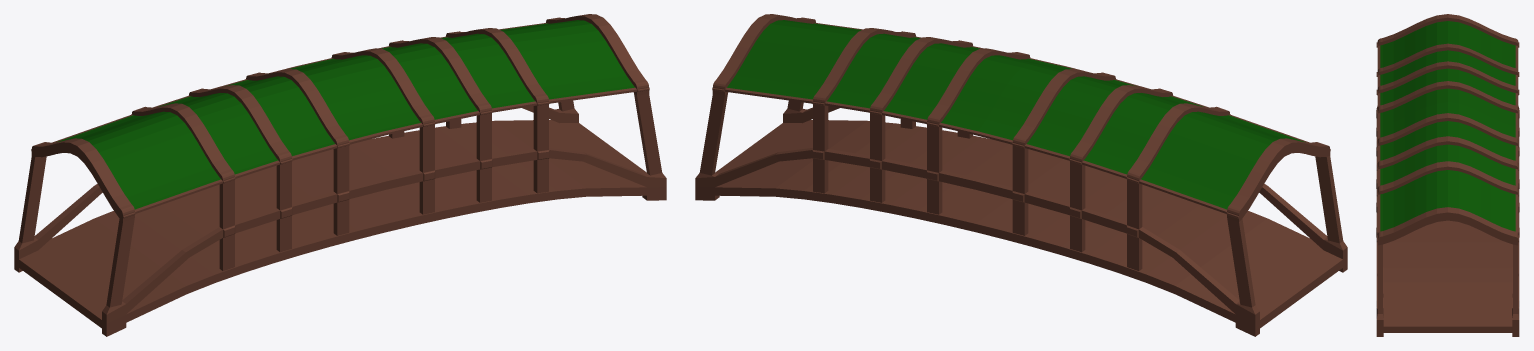
File: Tori_Silta_Katolla.fbx
3 views of the same model, side by side, from view 1: azimuth 30°, elevation 25°; view 2: azimuth 150°, elevation 25°; view 3: azimuth 270°, elevation 25° (orthographic). The views are drawn at different scales.
Visible parts, largest first — view 1: Silta_Katolla; view 2: Silta_Katolla; view 3: Silta_Katolla.
Part boxes in pixels (x1,y1,x2,y2): Silta_Katolla: (14,14,666,336); Silta_Katolla: (695,14,1347,336); Silta_Katolla: (1376,14,1519,336).
Bounding box in the file's own units: 1400 × 409 × 402.
